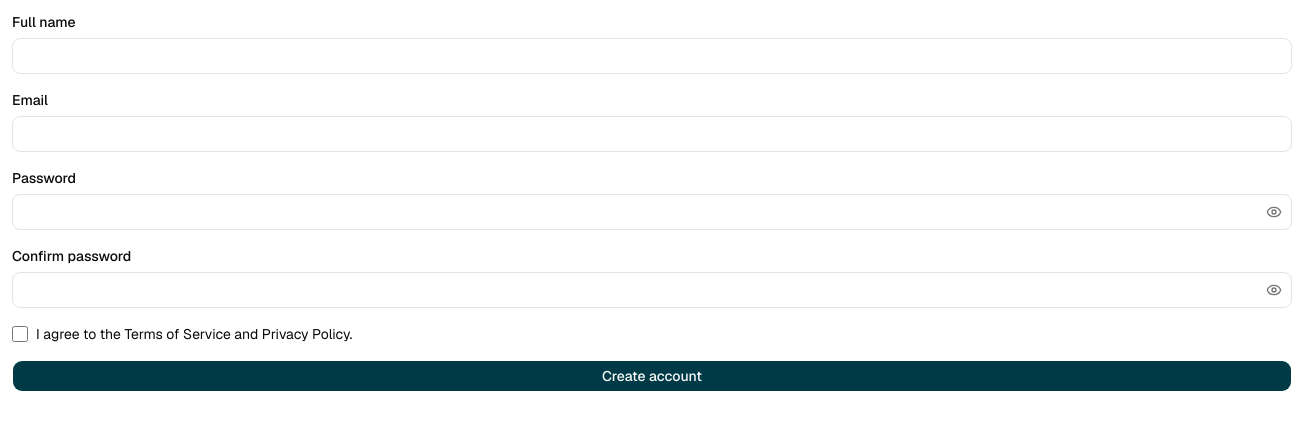
Scenario: RegisterForm › blocks submission when the terms checkbox isn't checked
In the field labelled "Full name": (652, 56) [12,38,1292,74], type "Ama Boateng"
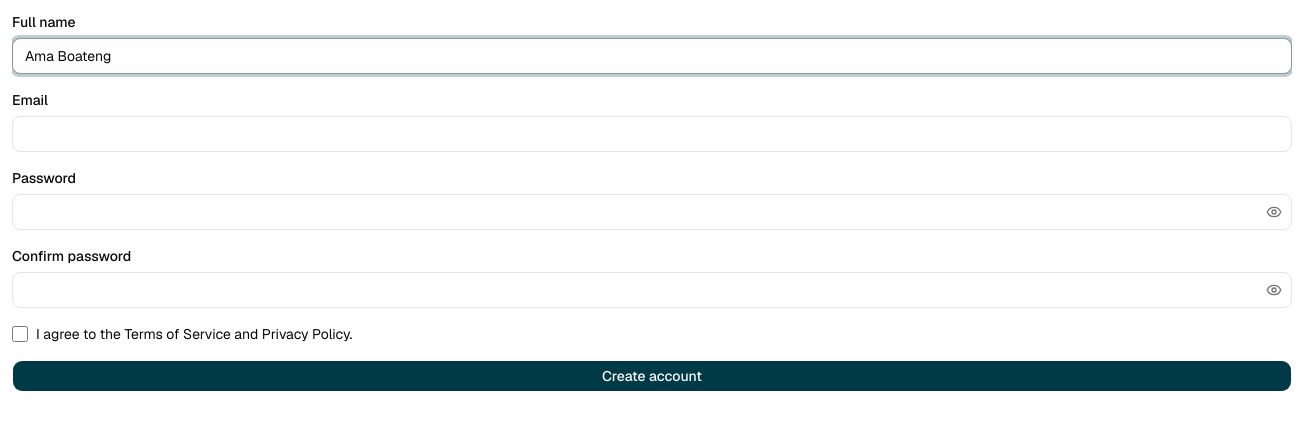
In the field labelled "Email": (652, 134) [12,116,1292,152], type "ama@example.com"
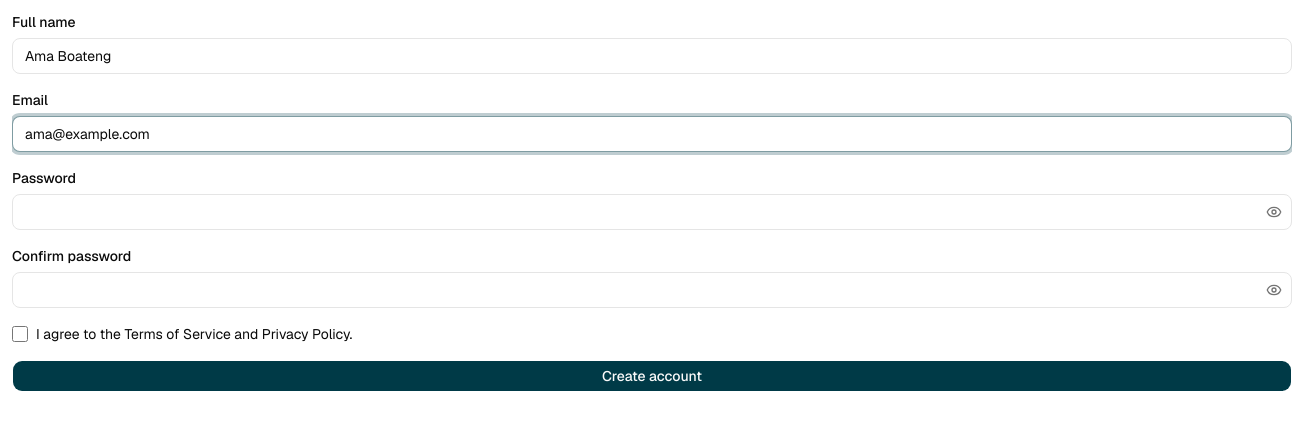
In the password field labelled "Password": (652, 212) [12,194,1292,230], type "Password123"
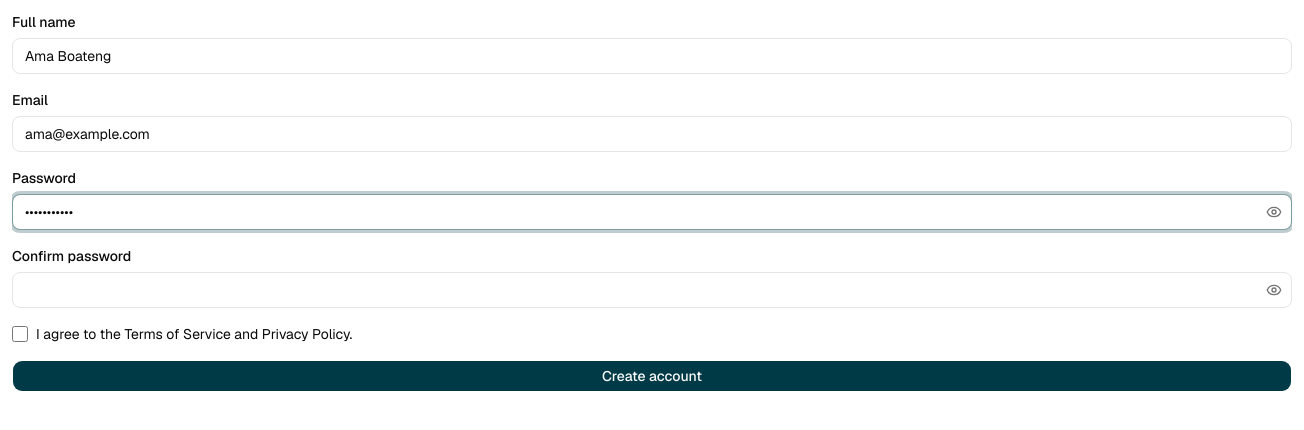
In the password field labelled "Confirm password": (652, 290) [12,272,1292,308], type "Password123"
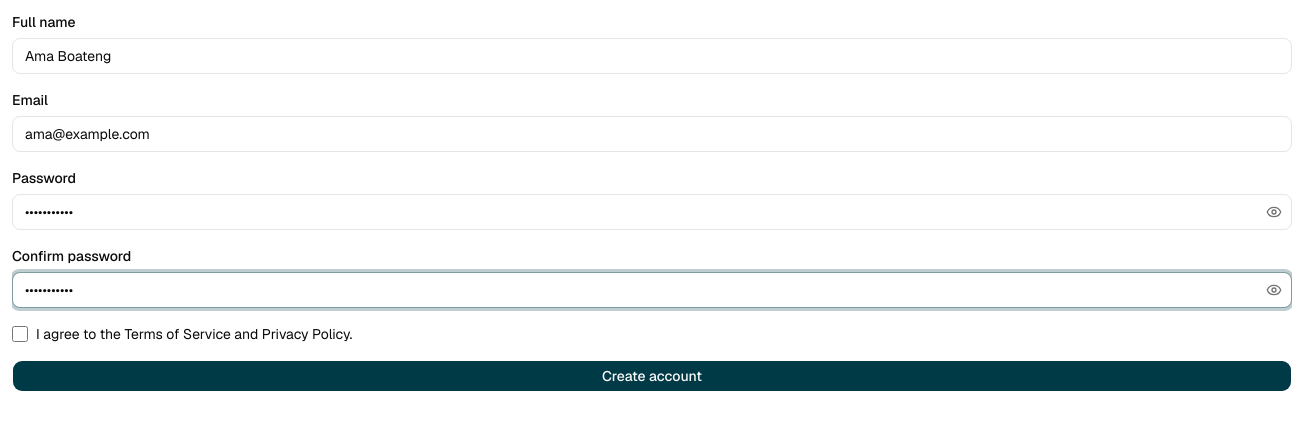
Click the button "Create account": (652, 376) [12,360,1292,392]
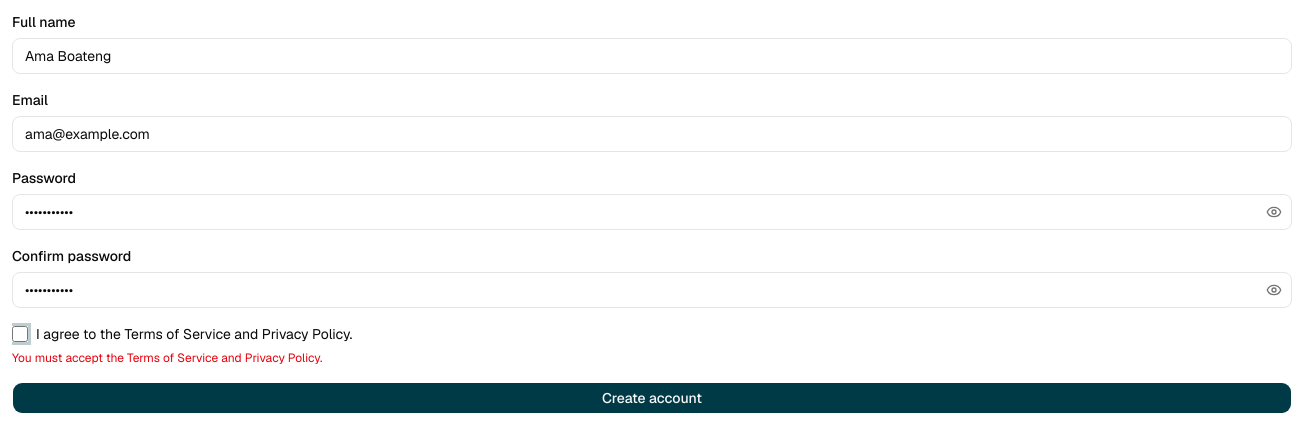
Result: the text "You must accept the Terms of Service and Privacy Policy." is shown at [12,350,322,366]
